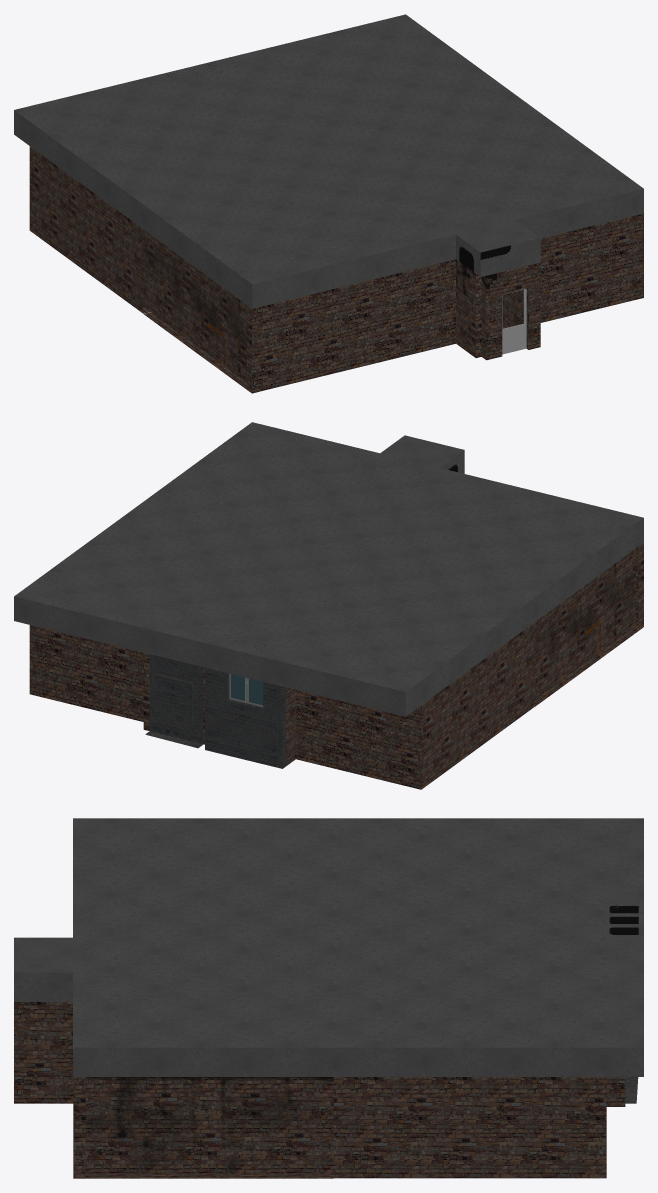
Rendered from basement.glb.
3 renders of one model, top to bottom at view 1: azimuth 30°, elevation 25°; view 2: azimuth 150°, elevation 25°; view 3: azimuth 270°, elevation 25°, orthographic. The views are drawn at different scales.
Parts seen in each view (by area): view 1: Потолок.005, Cube.008, Cube.001, Cube.006, Cube.005, Потолок.007, doorframe.002; view 2: Потолок.005, Cube.001, Cube.006, Cube.002, Cube.004, Потолок.007, Plane.002, Cube.008; view 3: Потолок.005, Cube.001, Cube.006, Cube.005, Потолок.007, Потолок.006, Cube.008.
Part boxes in pixels (x1=…): Потолок.005: x1=14, y1=14, x2=643, y2=308; Cube.008: x1=247, y1=213, x2=643, y2=393; Cube.001: x1=29, y1=146, x2=151, y2=313; Cube.006: x1=144, y1=213, x2=643, y2=393; Cube.005: x1=456, y1=259, x2=540, y2=360; Потолок.007: x1=456, y1=220, x2=540, y2=276; doorframe.002: x1=502, y1=289, x2=526, y2=354; Потолок.005: x1=14, y1=422, x2=643, y2=716; Cube.001: x1=29, y1=622, x2=535, y2=789; Cube.006: x1=535, y1=548, x2=641, y2=706; Cube.002: x1=205, y1=667, x2=286, y2=768; Cube.004: x1=149, y1=654, x2=203, y2=744; Потолок.007: x1=380, y1=435, x2=464, y2=473; Plane.002: x1=229, y1=673, x2=263, y2=706; Cube.008: x1=631, y1=542, x2=643, y2=630; Потолок.005: x1=73, y1=818, x2=643, y2=1076; Cube.001: x1=333, y1=1077, x2=625, y2=1178; Cube.006: x1=73, y1=1077, x2=333, y2=1178; Cube.005: x1=14, y1=1002, x2=73, y2=1103; Потолок.007: x1=14, y1=937, x2=72, y2=1001; Потолок.006: x1=606, y1=891, x2=638, y2=936; Cube.008: x1=73, y1=1077, x2=85, y2=1178.
Bounding box in the file's own units: 13.57 × 3.62 × 15.77.
Materials: 12 (10 with a texture image).
